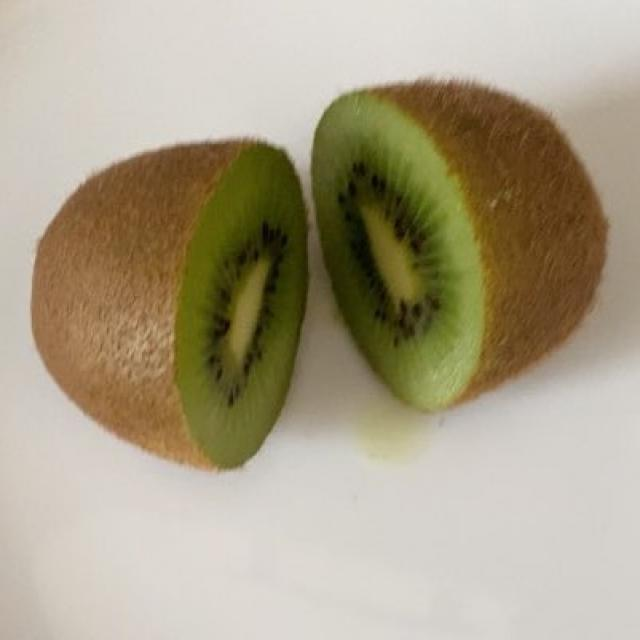kiwi: (36, 87, 588, 463)
